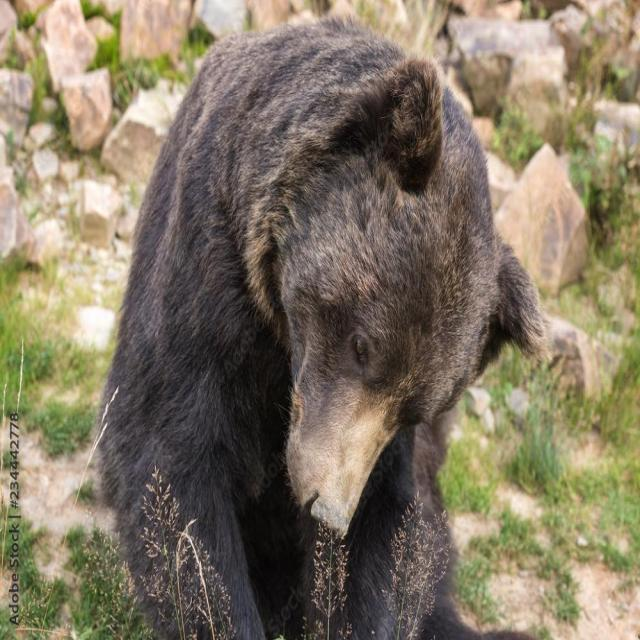Bear: (90, 15, 551, 640)
